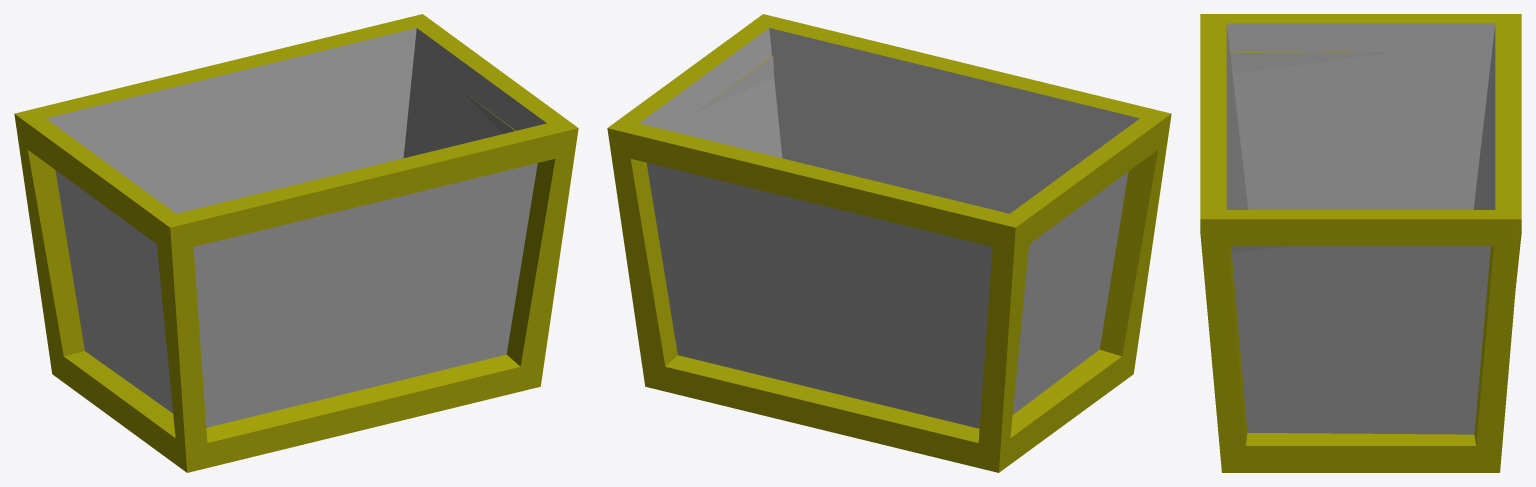
Rendered from Chest_B.fbx.
3 renders of one model, left to right at view 1: azimuth 30°, elevation 25°; view 2: azimuth 150°, elevation 25°; view 3: azimuth 270°, elevation 25°, orthographic. The views are drawn at different scales.
Visible parts, largest first — view 1: pCube30; view 2: pCube30; view 3: pCube30.
Boxes of the visible parts, bbox=[...] form: pCube30: bbox=[14, 14, 578, 472]; pCube30: bbox=[607, 14, 1171, 472]; pCube30: bbox=[1200, 14, 1521, 472].
Bounding box in the file's own units: 242 × 147 × 160.
